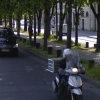Motorcycle: (38, 51, 91, 100)
